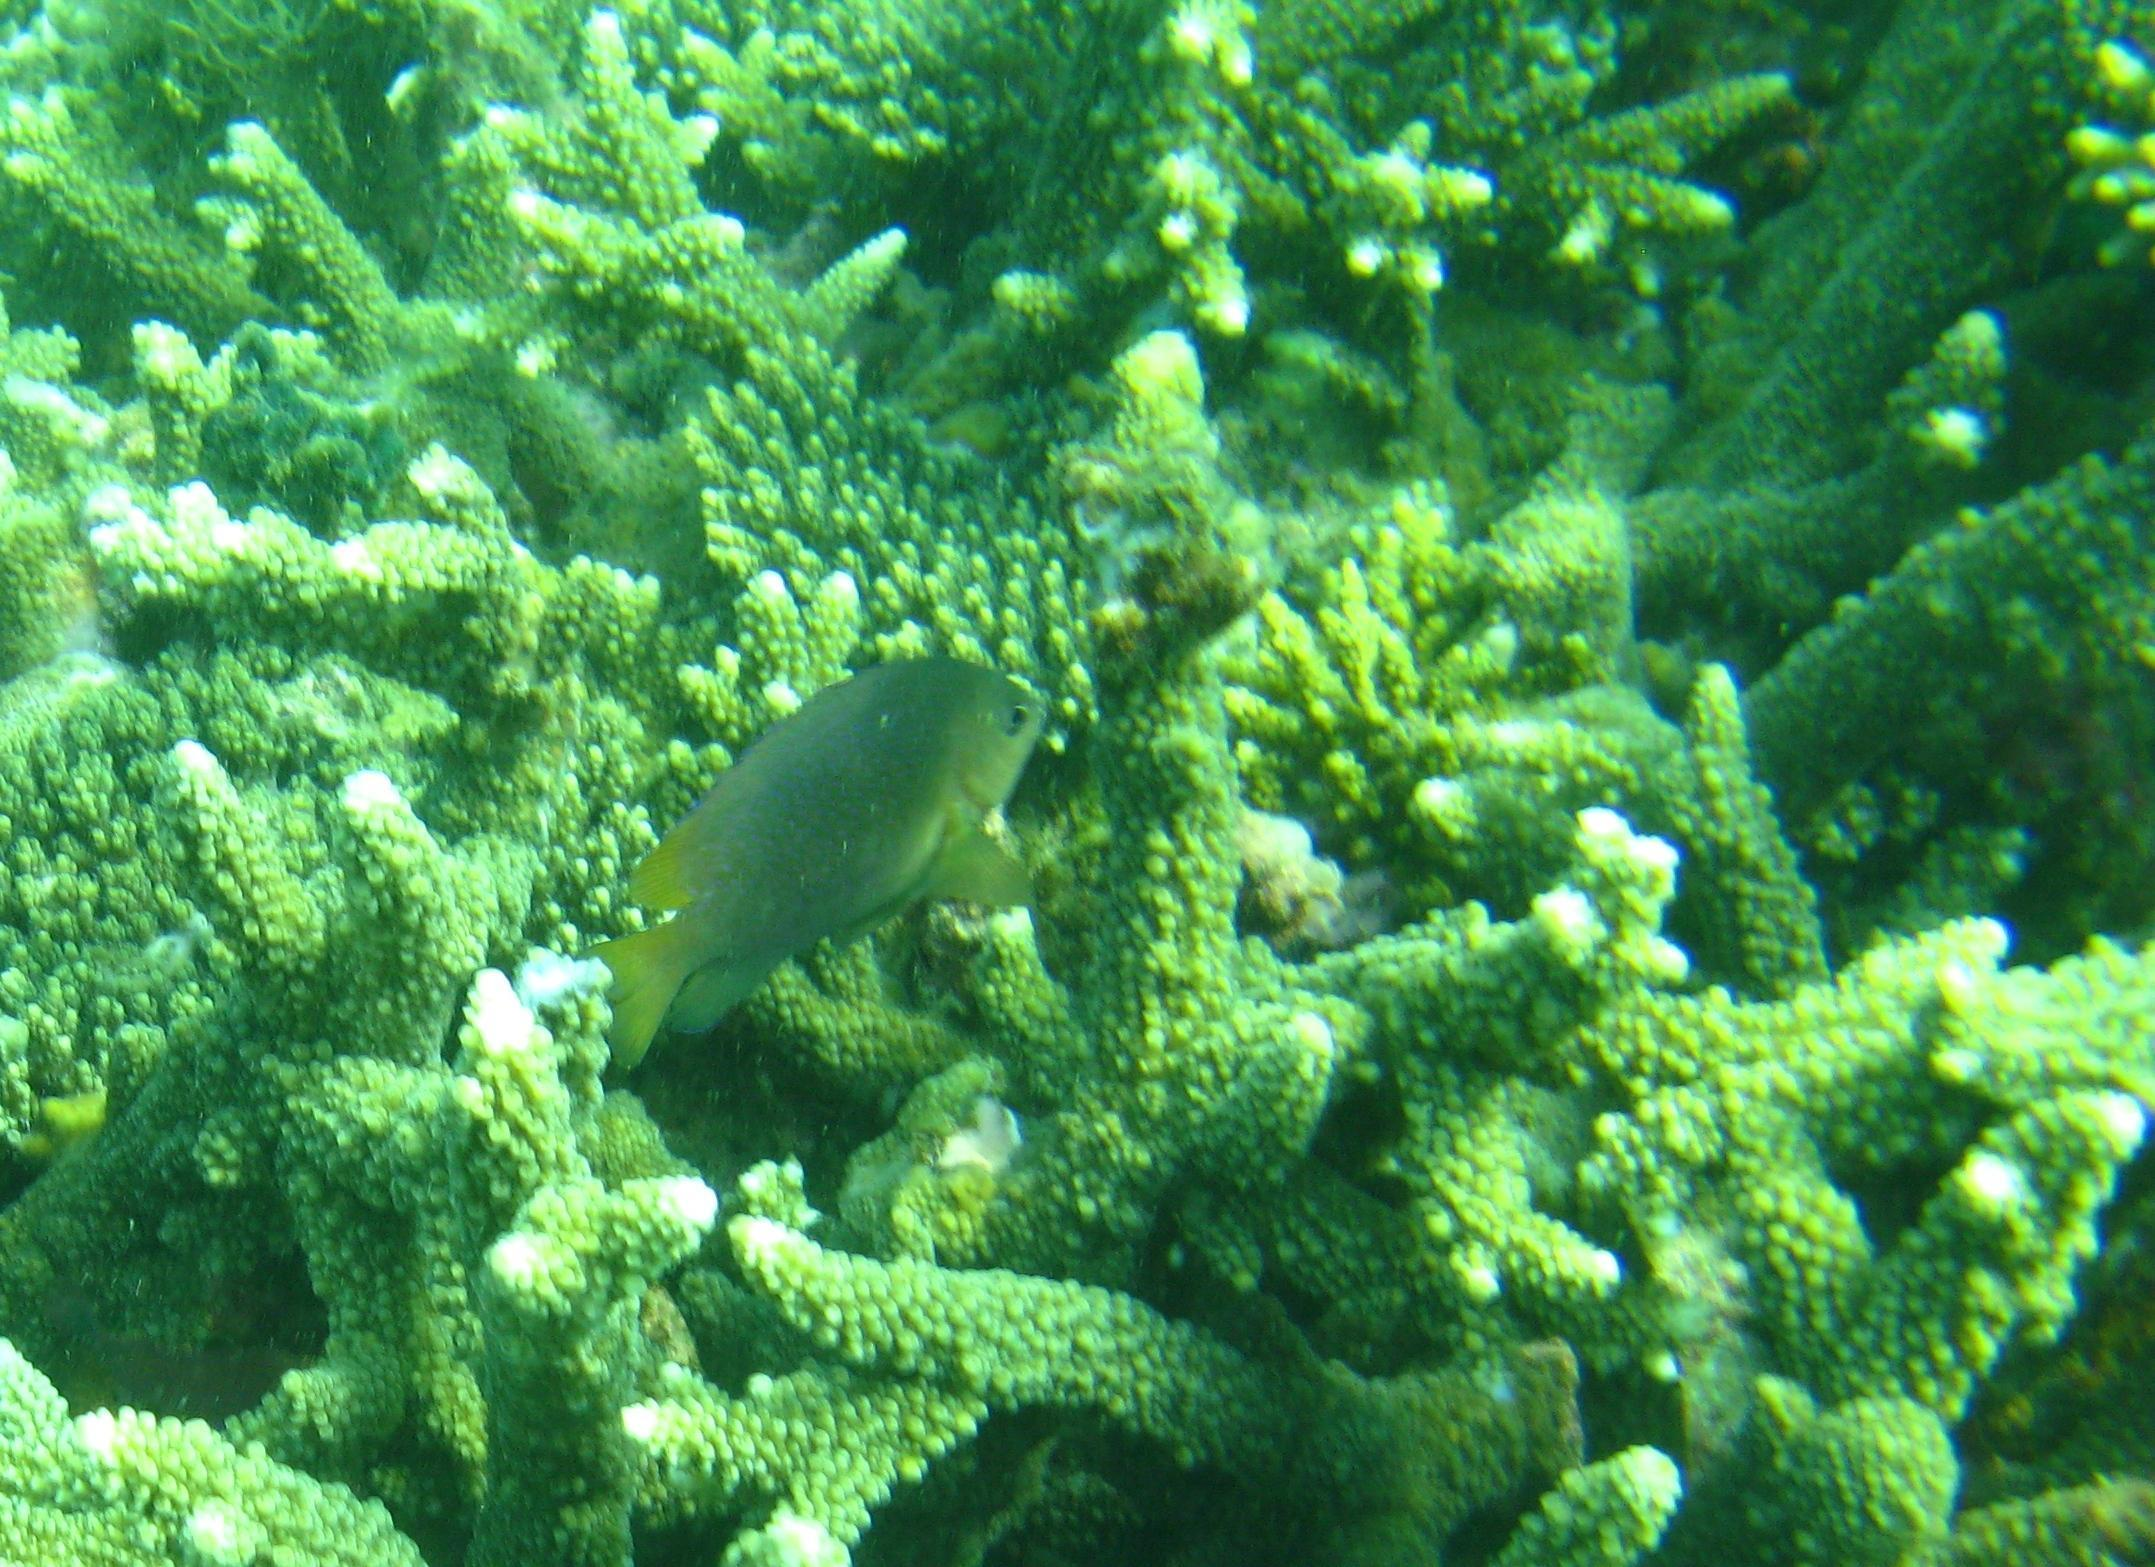Fish: (540, 654, 1103, 1089)
